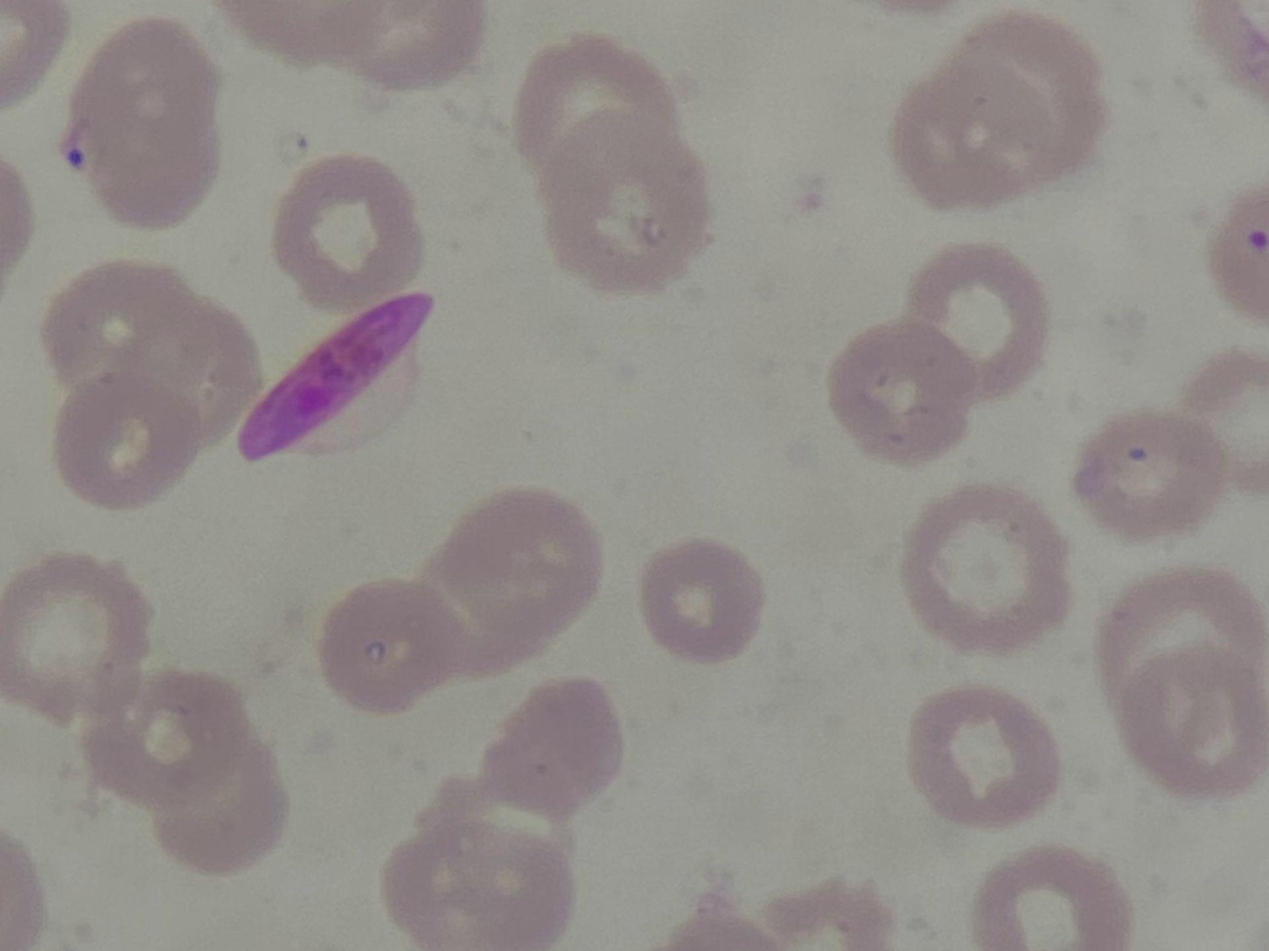Infected: (235, 289, 446, 467)
Uninfected: (66, 19, 223, 235), (542, 108, 712, 292), (905, 481, 1075, 654), (1099, 564, 1269, 727), (517, 32, 680, 198), (0, 551, 146, 726), (891, 60, 1058, 210), (274, 157, 433, 304), (909, 240, 1049, 402), (1120, 645, 1269, 797), (317, 575, 478, 715), (46, 375, 212, 510), (38, 256, 199, 395), (88, 671, 249, 809), (474, 673, 627, 816), (828, 324, 984, 464), (910, 684, 1058, 829), (1076, 408, 1232, 542), (978, 843, 1136, 951), (643, 537, 769, 664)
